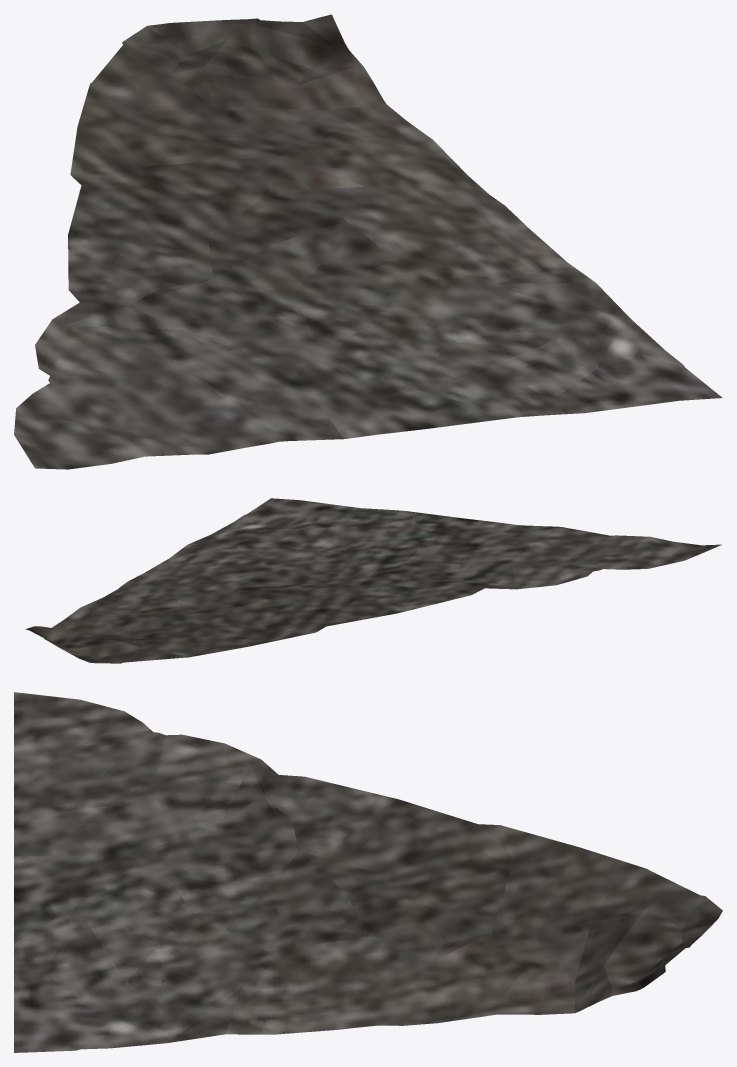
The picture shows the model from 3 angles, top to bottom: view 1: azimuth 30°, elevation 25°; view 2: azimuth 150°, elevation 25°; view 3: azimuth 270°, elevation 25°; orthographic projection. The views are drawn at different scales.
Size of the model in its own units: 0.4201 by 0.0568 by 0.45.
Materials: 1 (1 with a texture image).
